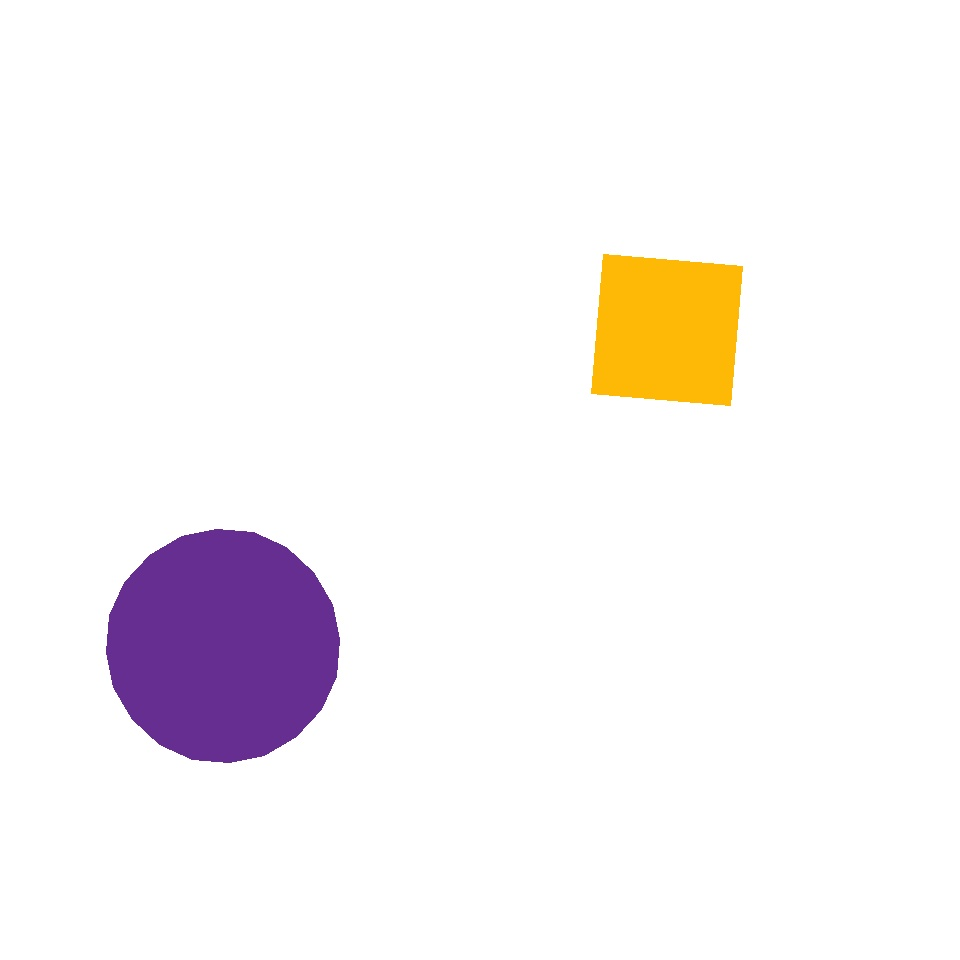circle: (176, 299, 312, 419)
square: (132, 434, 480, 780), (592, 255, 742, 406)
triangle: (436, 644, 676, 882), (107, 530, 340, 762), (266, 122, 434, 288)
